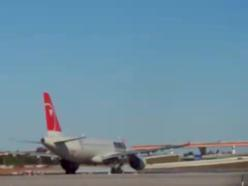aircraft: (10, 91, 191, 174)
